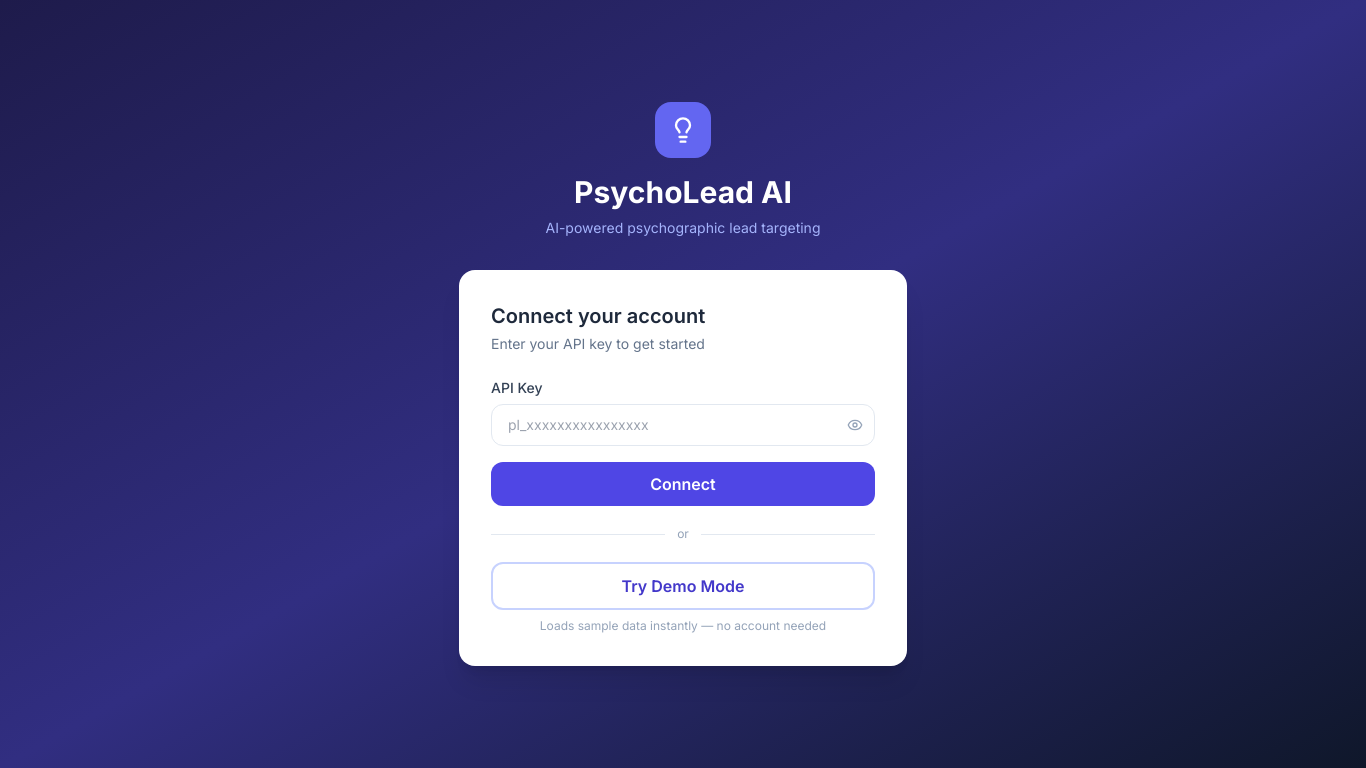
Test: LoginPage › shows error state on empty key submission
Step 1. Click the button "Connect" → (683, 484), box [491,462,875,506]
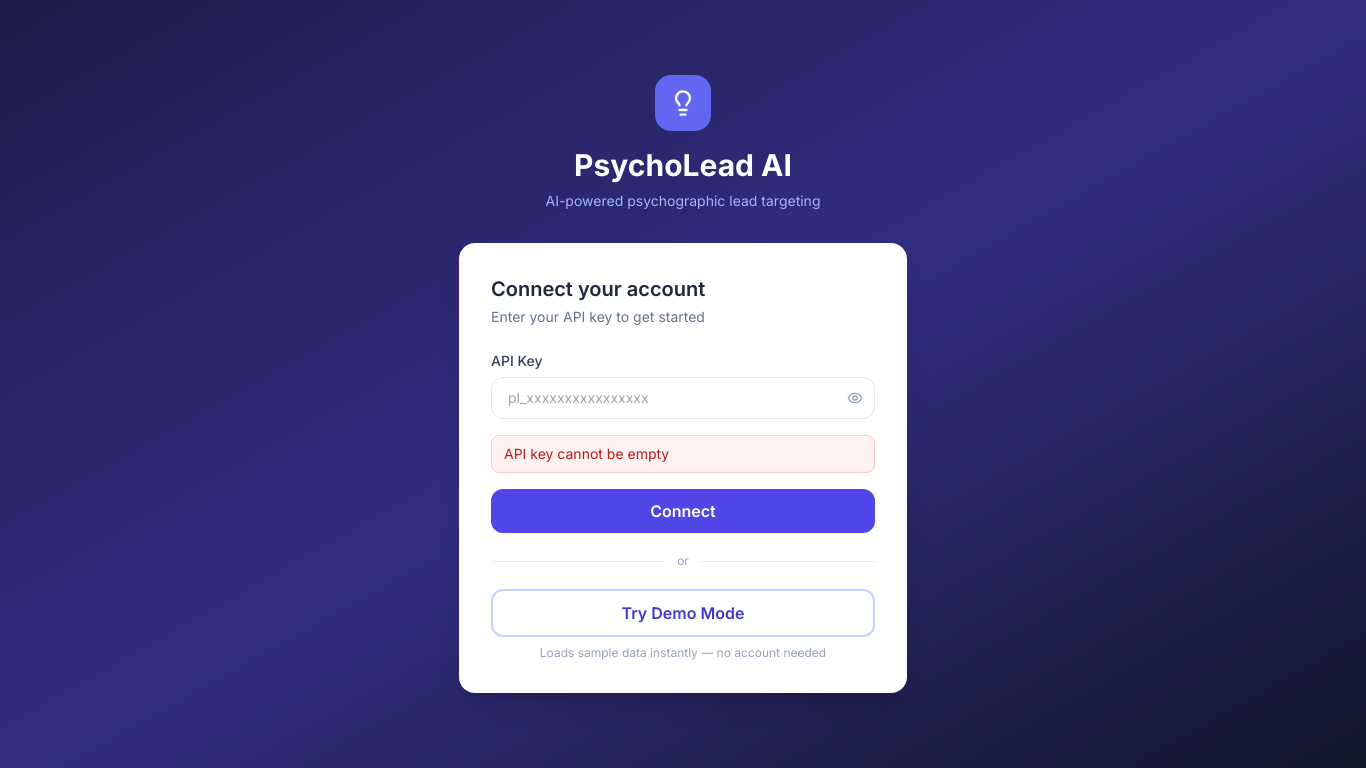
Now the text "API key cannot be empty" is shown, box [491,435,875,473]
